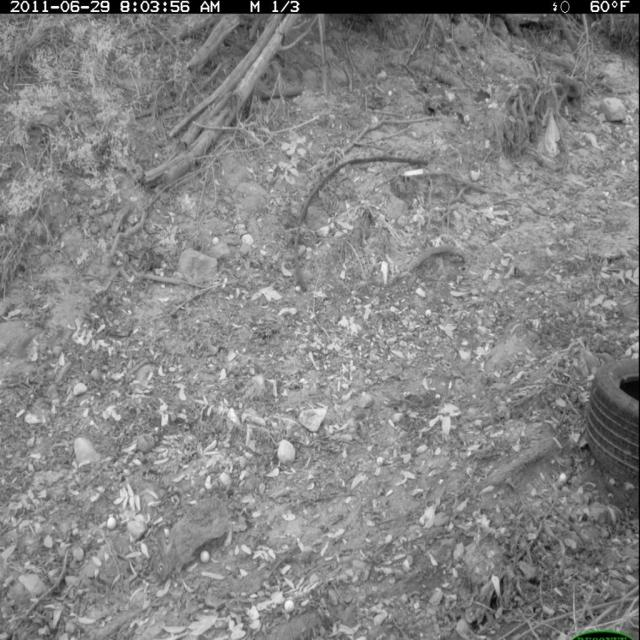rabbit: (141, 494, 242, 588)
